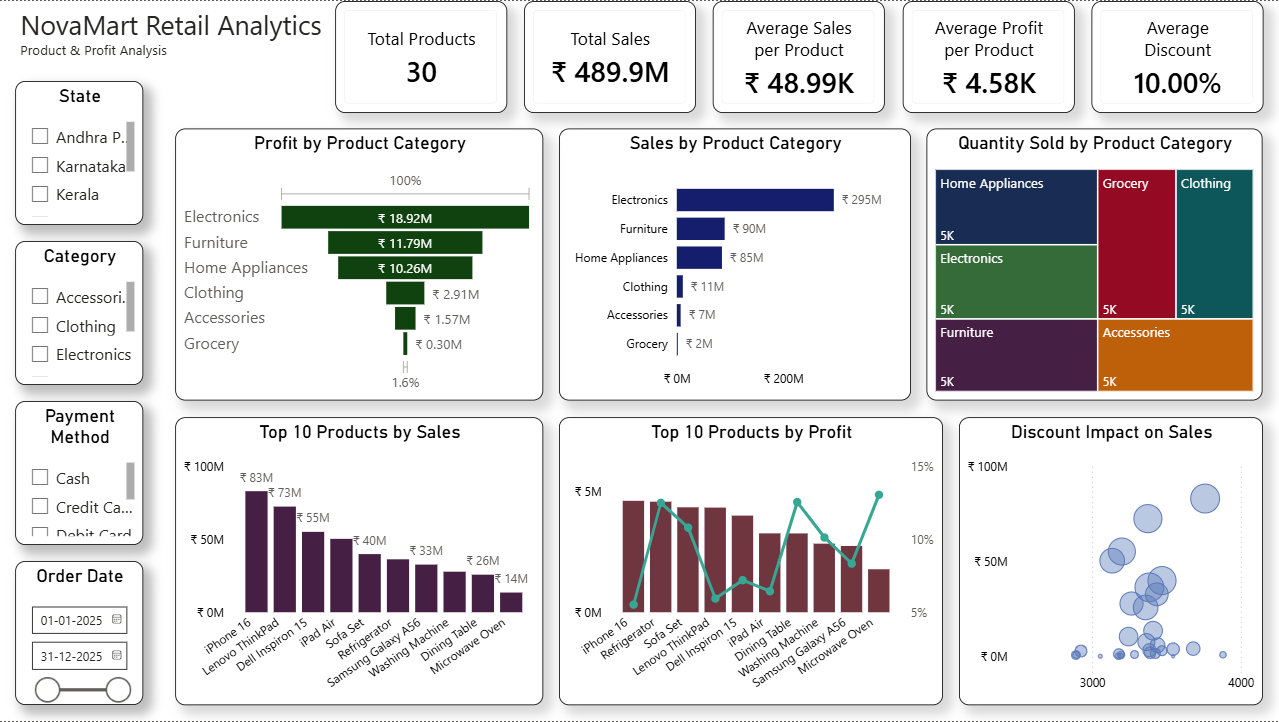

This screenshot's page, from the dashboard's own definition file:
{"tool":"powerbi","page":{"name":"📦 Product & Profit Analysis","canvas":[1280,720],"ordinal":3},"visuals":[{"type":"textbox","box":[16,0,320,64],"z":0},{"type":"cardVisual","title":"Total Products","fields":{"Data":["Measures (2).Total Products"]},"box":[336,0,171.9,112],"z":0,"group":"g1"},{"type":"slicer","title":"State","fields":{"Values":["NovaMart Sales.state"]},"box":[16,80,128,144],"z":0,"group":"g2"},{"type":"group","id":"g1","title":"Group 2","box":[336,0,928,112],"z":1000},{"type":"slicer","title":"Category","fields":{"Values":["NovaMart Sales.category"]},"box":[16,240,128,144],"z":1000,"group":"g2"},{"type":"cardVisual","title":"Average Discount","fields":{"Data":["Measures (2).Average Discount"]},"box":[1092.1,0,171.9,112],"z":2000,"group":"g1"},{"type":"clusteredBarChart","title":"Sales by Product Category","fields":{"Category":["NovaMart Sales.category"],"Y":["Measures (2).Total Sales"]},"box":[560,128,352,272],"z":2000},{"type":"slicer","title":"Payment Method","fields":{"Values":["NovaMart Sales.payment_method"]},"box":[16,400,128,144],"z":2000,"group":"g2"},{"type":"funnel","title":"Profit by Product Category","fields":{"Category":["NovaMart Sales.category"],"Y":["Measures (2).Total Profit"]},"box":[176,128,368,272],"z":3000},{"type":"cardVisual","title":"Average Profit per Product","fields":{"Data":["Measures (2).Average Product Profit"]},"box":[903.1,0,171.9,112],"z":4000,"group":"g1"},{"type":"treemap","title":"Quantity Sold by Product Category","fields":{"Group":["NovaMart Sales.category"],"Values":["Sum(NovaMart Sales.quantity)"]},"box":[928,128,336,272],"z":4000},{"type":"clusteredColumnChart","title":"Top 10 Products by Sales","fields":{"Category":["NovaMart Sales.product_name"],"Y":["Measures (2).Total Sales"]},"box":[176,416,368,288],"z":5000},{"type":"cardVisual","title":"Average Sales per Product","fields":{"Data":["Measures (2).Average Product Sales"]},"box":[714.1,0,171.9,112],"z":6000,"group":"g1"},{"type":"lineClusteredColumnComboChart","title":"Top 10 Products by Profit","fields":{"Category":["NovaMart Sales.product_name"],"Y":["Sum(NovaMart Sales.profit)"],"Y2":["Measures (2).Profit Margin %"]},"box":[560,416,384,288],"z":6000},{"type":"scatterChart","title":"Discount Impact on Sales","fields":{"X":["Sum(NovaMart Sales.discount_percent)"],"Y":["Measures (2).Total Sales"],"Category":["NovaMart Sales.product_name"],"Size":["Sum(NovaMart Sales.profit)"]},"box":[960,416,304,288],"z":7000},{"type":"cardVisual","title":"Total Sales","fields":{"Data":["Measures (2).Total Sales"]},"box":[525,0,171.9,112],"z":8000,"group":"g1"},{"type":"group","id":"g2","title":"Group 1","box":[16,80,128,464],"z":8000},{"type":"slicer","title":"Order Date","fields":{"Values":["NovaMart Sales.order_date"]},"box":[16,560,128,144],"z":9000}]}

Visuals, with their boxes in screenshot pixels (x1, y1, x2, y2), scaled from the page's 1280x720 canvas onto the 1279x722 screenshot:
textbox: select_region(16, 0, 336, 64)
"Total Products" cardVisual: select_region(336, 0, 508, 112)
"State" slicer: select_region(16, 80, 144, 225)
"Group 2" group: select_region(336, 0, 1263, 112)
"Category" slicer: select_region(16, 241, 144, 385)
"Average Discount" cardVisual: select_region(1091, 0, 1263, 112)
"Sales by Product Category" clusteredBarChart: select_region(560, 128, 911, 401)
"Payment Method" slicer: select_region(16, 401, 144, 546)
"Profit by Product Category" funnel: select_region(176, 128, 544, 401)
"Average Profit per Product" cardVisual: select_region(902, 0, 1074, 112)
"Quantity Sold by Product Category" treemap: select_region(927, 128, 1263, 401)
"Top 10 Products by Sales" clusteredColumnChart: select_region(176, 417, 544, 706)
"Average Sales per Product" cardVisual: select_region(714, 0, 885, 112)
"Top 10 Products by Profit" lineClusteredColumnComboChart: select_region(560, 417, 943, 706)
"Discount Impact on Sales" scatterChart: select_region(959, 417, 1263, 706)
"Total Sales" cardVisual: select_region(525, 0, 696, 112)
"Group 1" group: select_region(16, 80, 144, 546)
"Order Date" slicer: select_region(16, 562, 144, 706)
